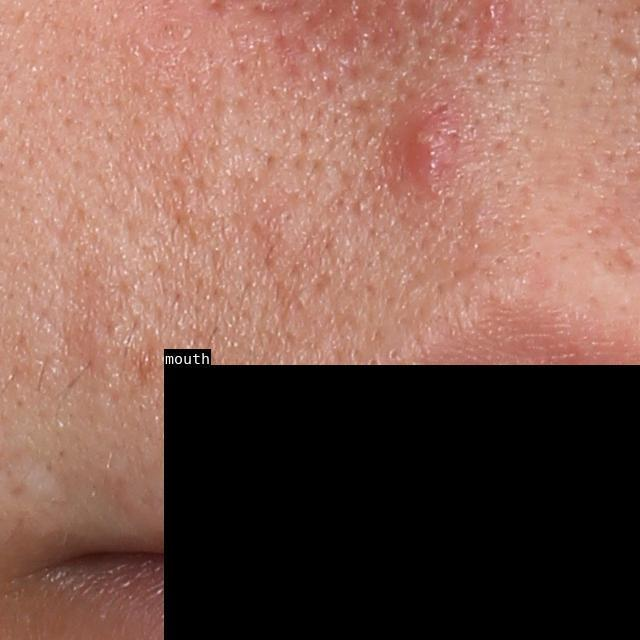atrophic_scar: (608, 243, 636, 274)
